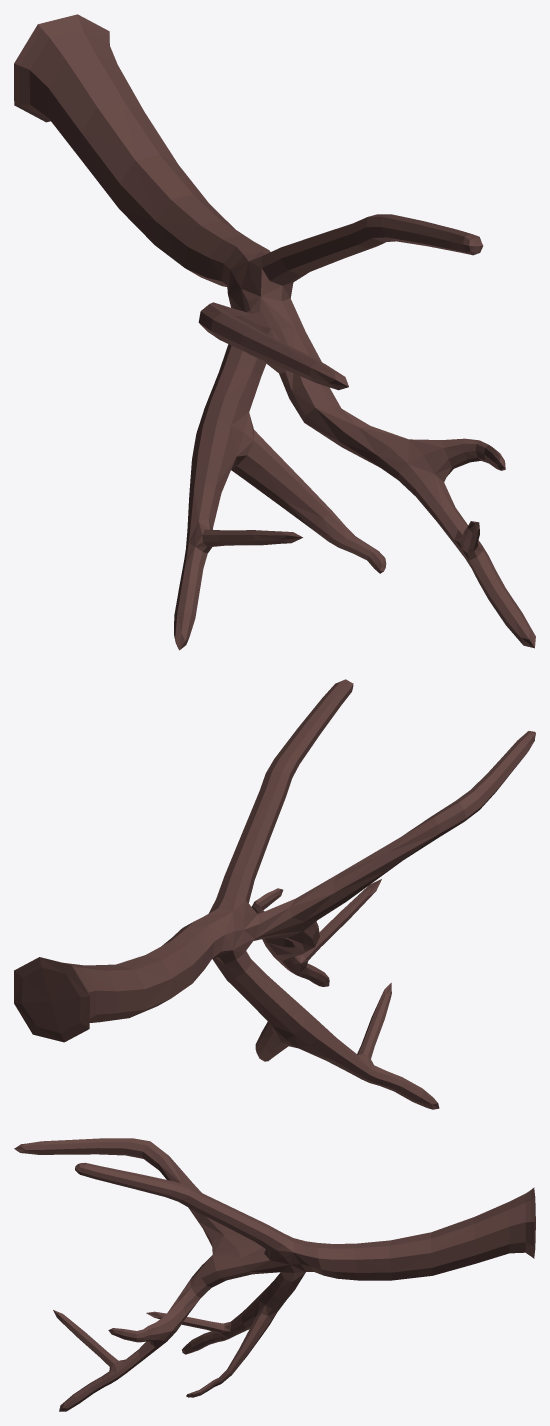
The model's file is tree-bare-deciduous-5-30-ft.obj.
3 renders of one model, top to bottom at view 1: azimuth 30°, elevation 25°; view 2: azimuth 150°, elevation 25°; view 3: azimuth 270°, elevation 25°, orthographic. The views are drawn at different scales.
Visible parts, largest first — view 1: tree-bare-deciduous-5-30-ft; view 2: tree-bare-deciduous-5-30-ft; view 3: tree-bare-deciduous-5-30-ft.
Boxes of the visible parts, <box> form: tree-bare-deciduous-5-30-ft: <box>14,14,535,650</box>; tree-bare-deciduous-5-30-ft: <box>14,679,535,1109</box>; tree-bare-deciduous-5-30-ft: <box>14,1138,535,1411</box>.
Size of the model in its own units: 132 by 188 by 360.
